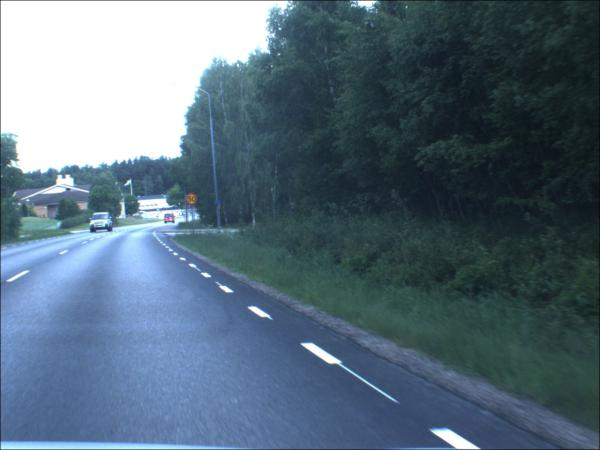50_SIGN: (187, 195, 199, 207)
